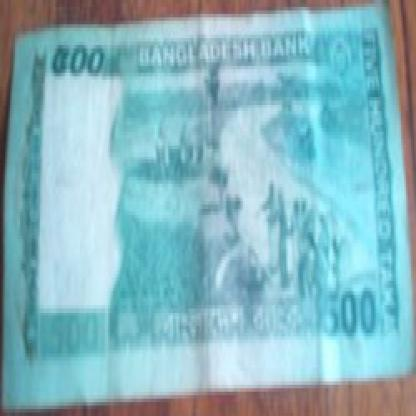500 taka: (42, 28, 110, 83)
currency: (2, 4, 414, 402)
